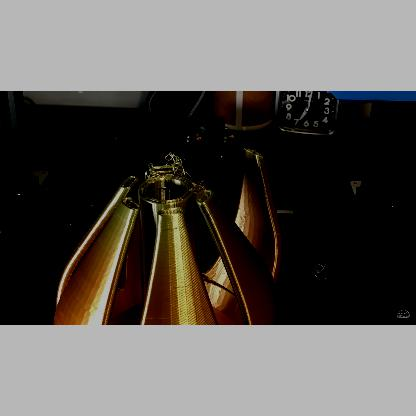fail: (166, 150, 192, 178), (310, 258, 334, 282)
